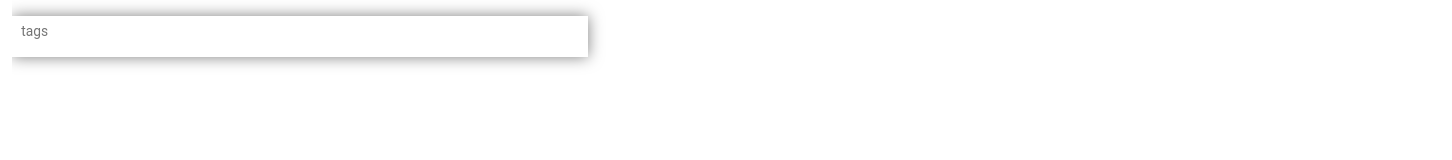
Scenario: Combobox › creates the tag through toCreated
Type "sci_" into the field with placeholder "tags" at (304, 31), box [19,16,588,46]
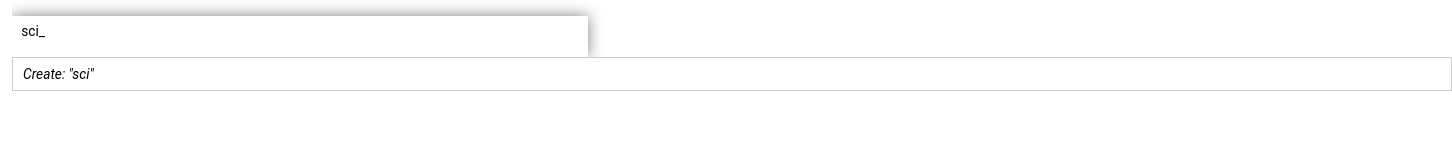
Now the text "Create: \"sci\"" is shown, box [23,66,94,82]
Press Enter in the field with placeholder "tags", box [19,16,588,46]
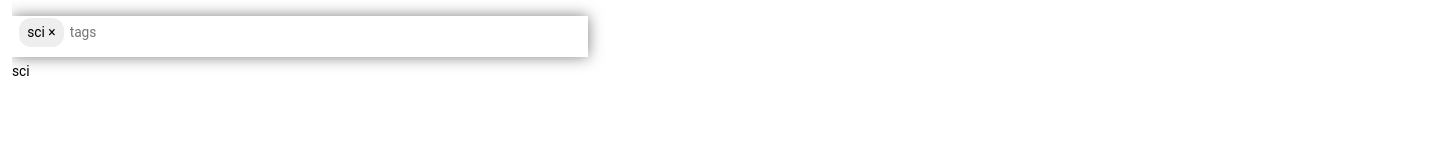
Now the text "sci" is shown, box [12,61,30,81]
